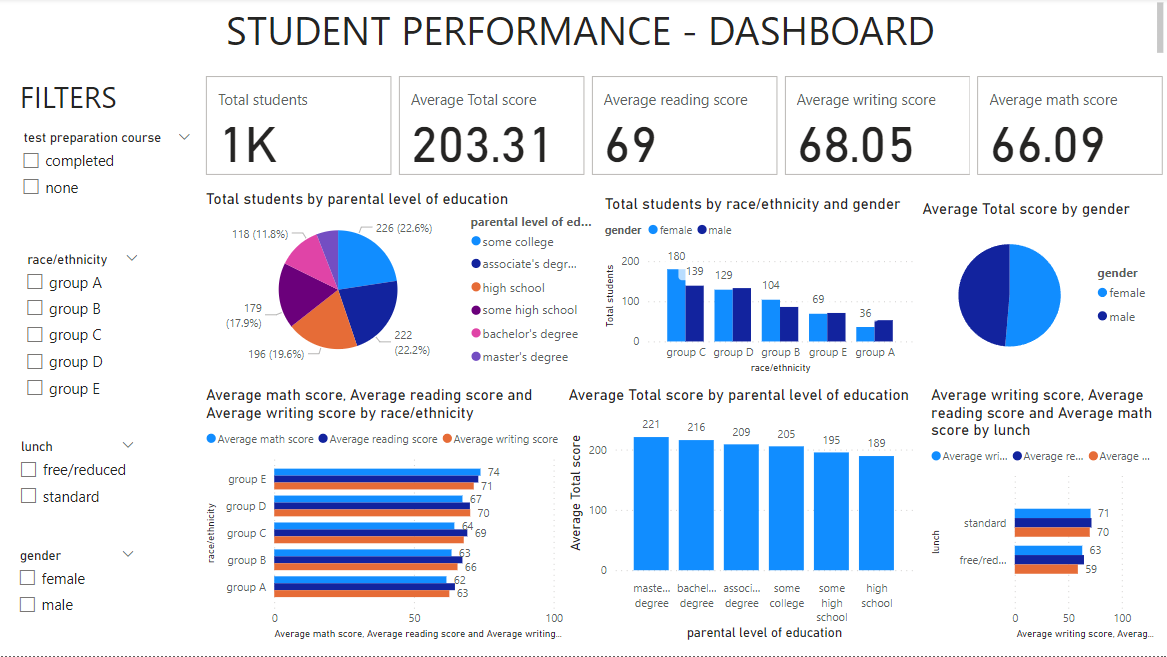

What the dashboard file says about the page in this screenshot:
{"tool":"powerbi","page":{"name":"Page 1","canvas":[1280,720],"ordinal":0},"visuals":[{"type":"textbox","box":[0,0,1280.3,65.9],"z":0},{"type":"cardVisual","fields":{"Data":["StudentsPerformance.Total students","StudentsPerformance.Average score","StudentsPerformance.Average reading score","StudentsPerformance.Average writing score","StudentsPerformance.Average math score"]},"box":[221,80.9,1059.3,118.6],"z":1000},{"type":"pieChart","fields":{"Category":["StudentsPerformance.parental level of education"],"Y":["StudentsPerformance.Total students"]},"box":[221.6,209.3,436.3,201.1],"z":2000},{"type":"slicer","fields":{"Values":["StudentsPerformance.race/ethnicity"]},"box":[17.8,272.2,146.4,175.1],"z":3000},{"type":"slicer","fields":{"Values":["StudentsPerformance.lunch"]},"box":[10.9,477.4,149.1,88.9],"z":4000},{"type":"clusteredBarChart","fields":{"Category":["StudentsPerformance.race/ethnicity"],"Y":["StudentsPerformance.Average math score","StudentsPerformance.Average reading score","StudentsPerformance.Average writing score"]},"box":[221.6,424,406.2,283.1],"z":5000},{"type":"clusteredColumnChart","fields":{"Category":["StudentsPerformance.parental level of education"],"Y":["StudentsPerformance.Average Total score"]},"box":[618.3,424,387.1,283.1],"z":6000},{"type":"clusteredBarChart","fields":{"Y":["StudentsPerformance.Average writing score","StudentsPerformance.Average reading score","StudentsPerformance.Average math score"],"Category":["StudentsPerformance.lunch"]},"box":[1014.9,424,265.4,283.1],"z":7000},{"type":"pieChart","fields":{"Category":["StudentsPerformance.gender"],"Y":["StudentsPerformance.Average Total score"]},"box":[1005.3,220.2,265.4,191.5],"z":8000},{"type":"slicer","fields":{"Values":["StudentsPerformance.gender"]},"box":[9.6,596.4,150.5,88.9],"z":9000},{"type":"lineClusteredColumnComboChart","fields":{"Category":["StudentsPerformance.race/ethnicity"],"Y":["StudentsPerformance.Total students"],"Series":["StudentsPerformance.gender"]},"box":[657.9,214.7,347.4,201.1],"z":10000},{"type":"textbox","box":[17.8,80.7,134,58.8],"z":11000},{"type":"slicer","fields":{"Values":["StudentsPerformance.test preparation course"]},"box":[13.7,139.5,207.9,99.9],"z":12000}]}

Visuals, with their boxes in screenshot pixels (x1, y1, x2, y2), scaled from the page's 1280x720 canvas onto the 1167x657 screenshot:
textbox: [0,0,1166,60]
cardVisual - StudentsPerformance.Total students x StudentsPerformance.Average score: [201,74,1166,182]
pieChart - StudentsPerformance.parental level of education x StudentsPerformance.Total students: [202,191,600,374]
slicer - StudentsPerformance.race/ethnicity: [16,248,150,408]
slicer - StudentsPerformance.lunch: [10,436,146,517]
clusteredBarChart - StudentsPerformance.race/ethnicity x StudentsPerformance.Average math score: [202,387,572,645]
clusteredColumnChart - StudentsPerformance.parental level of education x StudentsPerformance.Average Total score: [564,387,917,645]
clusteredBarChart - StudentsPerformance.Average writing score x StudentsPerformance.Average reading score: [925,387,1166,645]
pieChart - StudentsPerformance.gender x StudentsPerformance.Average Total score: [917,201,1159,376]
slicer - StudentsPerformance.gender: [9,544,146,625]
lineClusteredColumnComboChart - StudentsPerformance.race/ethnicity x StudentsPerformance.Total students: [600,196,917,379]
textbox: [16,74,138,127]
slicer - StudentsPerformance.test preparation course: [12,127,202,218]
